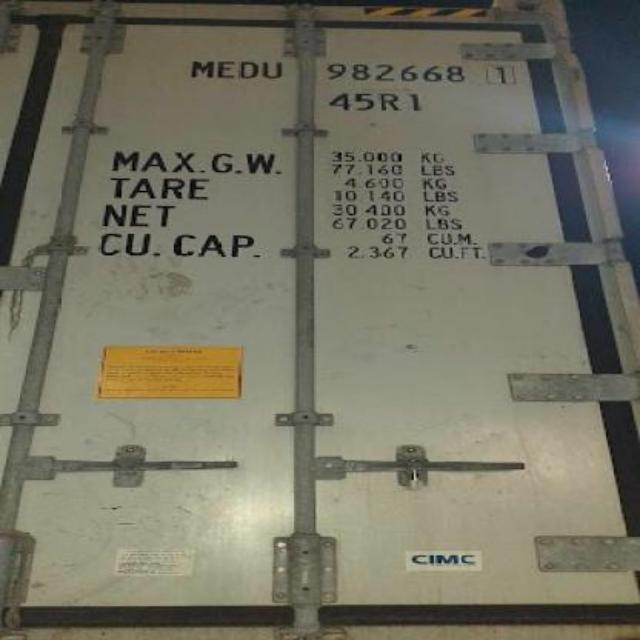1: (486, 64, 522, 86)
2: (372, 61, 398, 87)
6: (416, 60, 446, 88), (402, 63, 424, 87)
8: (346, 60, 370, 84), (444, 63, 468, 87)
9: (324, 60, 348, 84)
D: (234, 54, 260, 84)
E: (212, 57, 236, 83)
M: (188, 56, 216, 80)
U: (260, 59, 288, 85)
